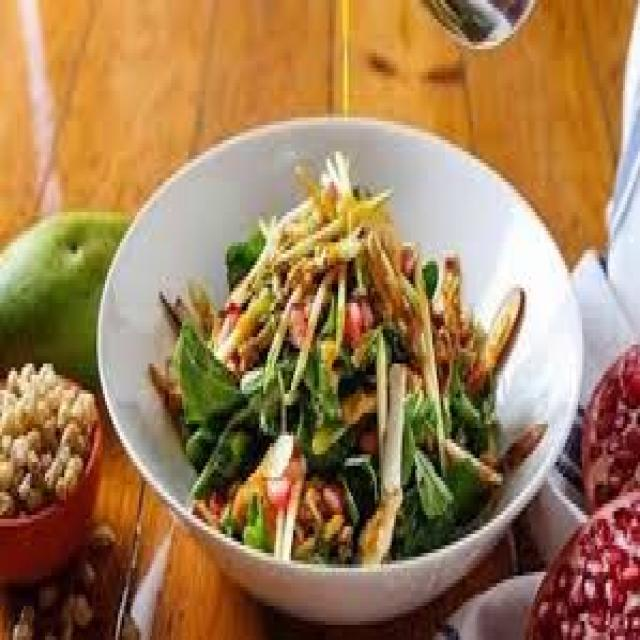organic waste: (358, 276, 524, 462), (152, 277, 353, 424), (225, 227, 355, 447), (261, 147, 418, 310), (0, 208, 131, 386), (186, 420, 338, 560), (355, 242, 456, 440), (385, 382, 499, 546), (522, 481, 638, 636), (291, 424, 398, 564), (0, 360, 92, 507), (578, 337, 638, 515), (11, 602, 34, 636), (66, 595, 88, 621), (34, 580, 60, 602), (88, 523, 113, 545), (60, 595, 73, 636), (79, 553, 94, 579)
